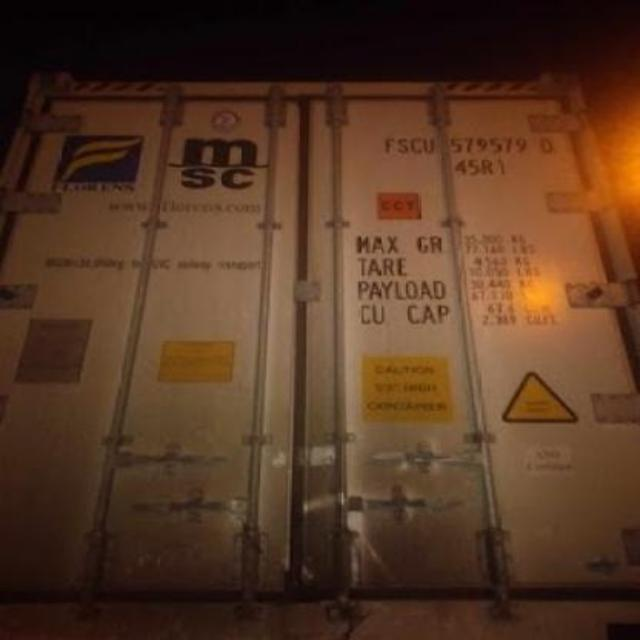0: (538, 128, 558, 156)
5: (488, 127, 500, 159), (448, 133, 462, 157)
7: (500, 129, 512, 161), (462, 132, 474, 154)
9: (514, 128, 528, 156), (474, 132, 488, 158)
C: (410, 130, 422, 160)
F: (380, 132, 396, 156)
S: (396, 132, 409, 156)
U: (422, 132, 436, 160)
